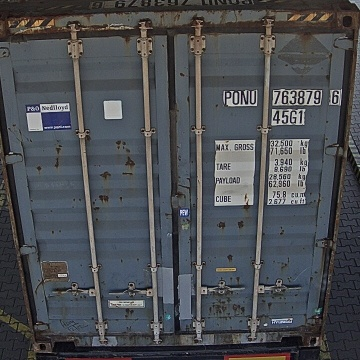serial_id: (224, 90, 340, 105)
